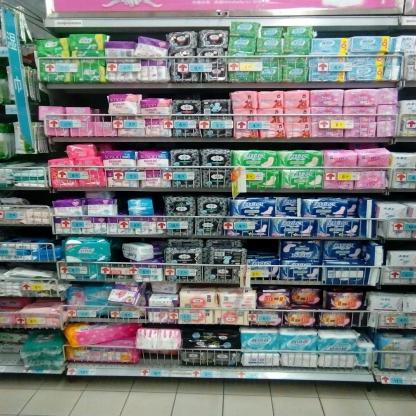Void: (49, 90, 104, 106), (144, 90, 231, 100), (4, 228, 50, 240), (246, 240, 277, 255), (27, 190, 50, 204), (388, 240, 415, 250), (117, 192, 128, 216), (154, 193, 166, 213), (115, 29, 133, 42), (113, 236, 122, 261), (402, 89, 416, 100), (397, 143, 414, 151)
